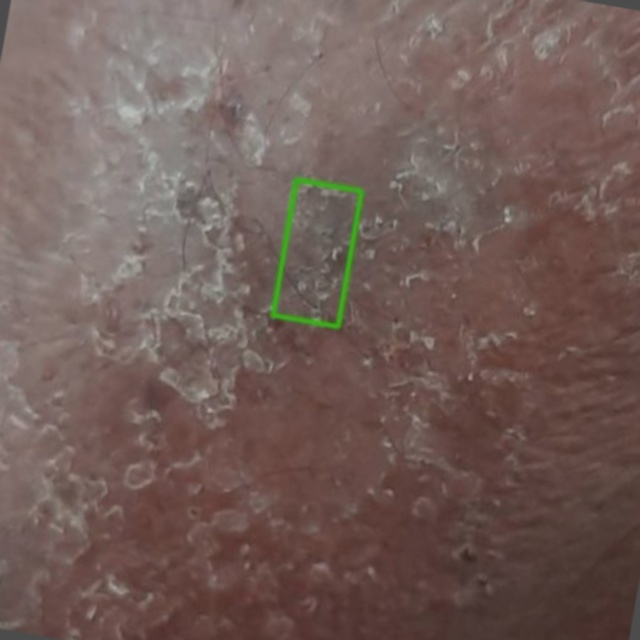Eczema: (273, 179, 361, 326)
